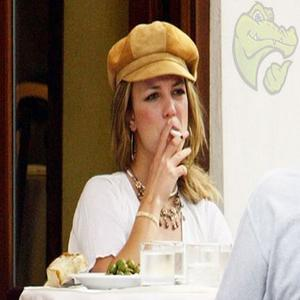cigarette: (167, 128, 185, 141)
